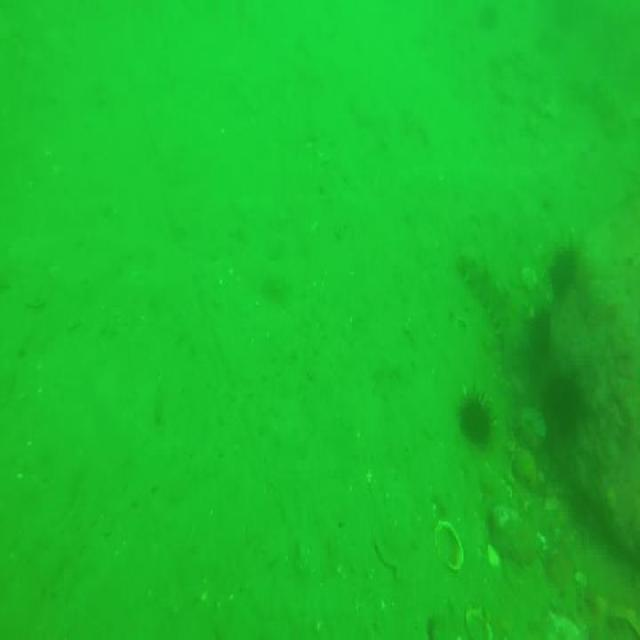echinus: (550, 248, 594, 297), (459, 390, 494, 450), (543, 371, 573, 433), (528, 310, 550, 354)
holothurian: (458, 251, 516, 375)
scallop: (435, 518, 464, 572), (463, 605, 491, 640)
